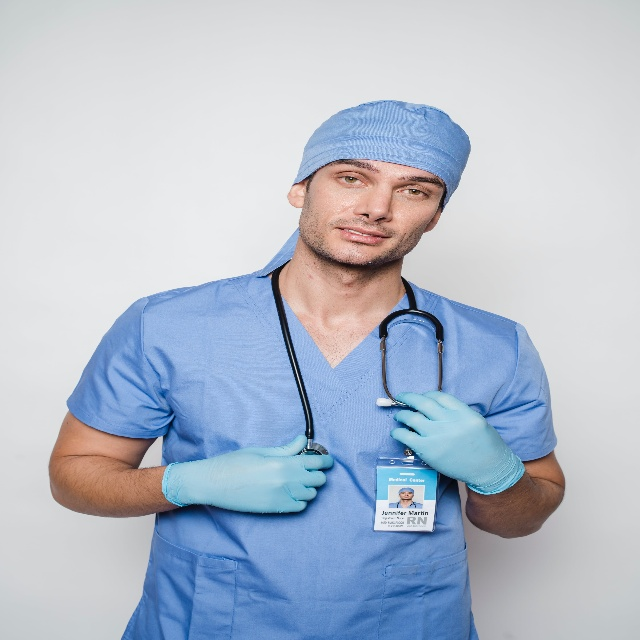Guantes: (389, 390, 526, 495), (161, 433, 334, 515)
